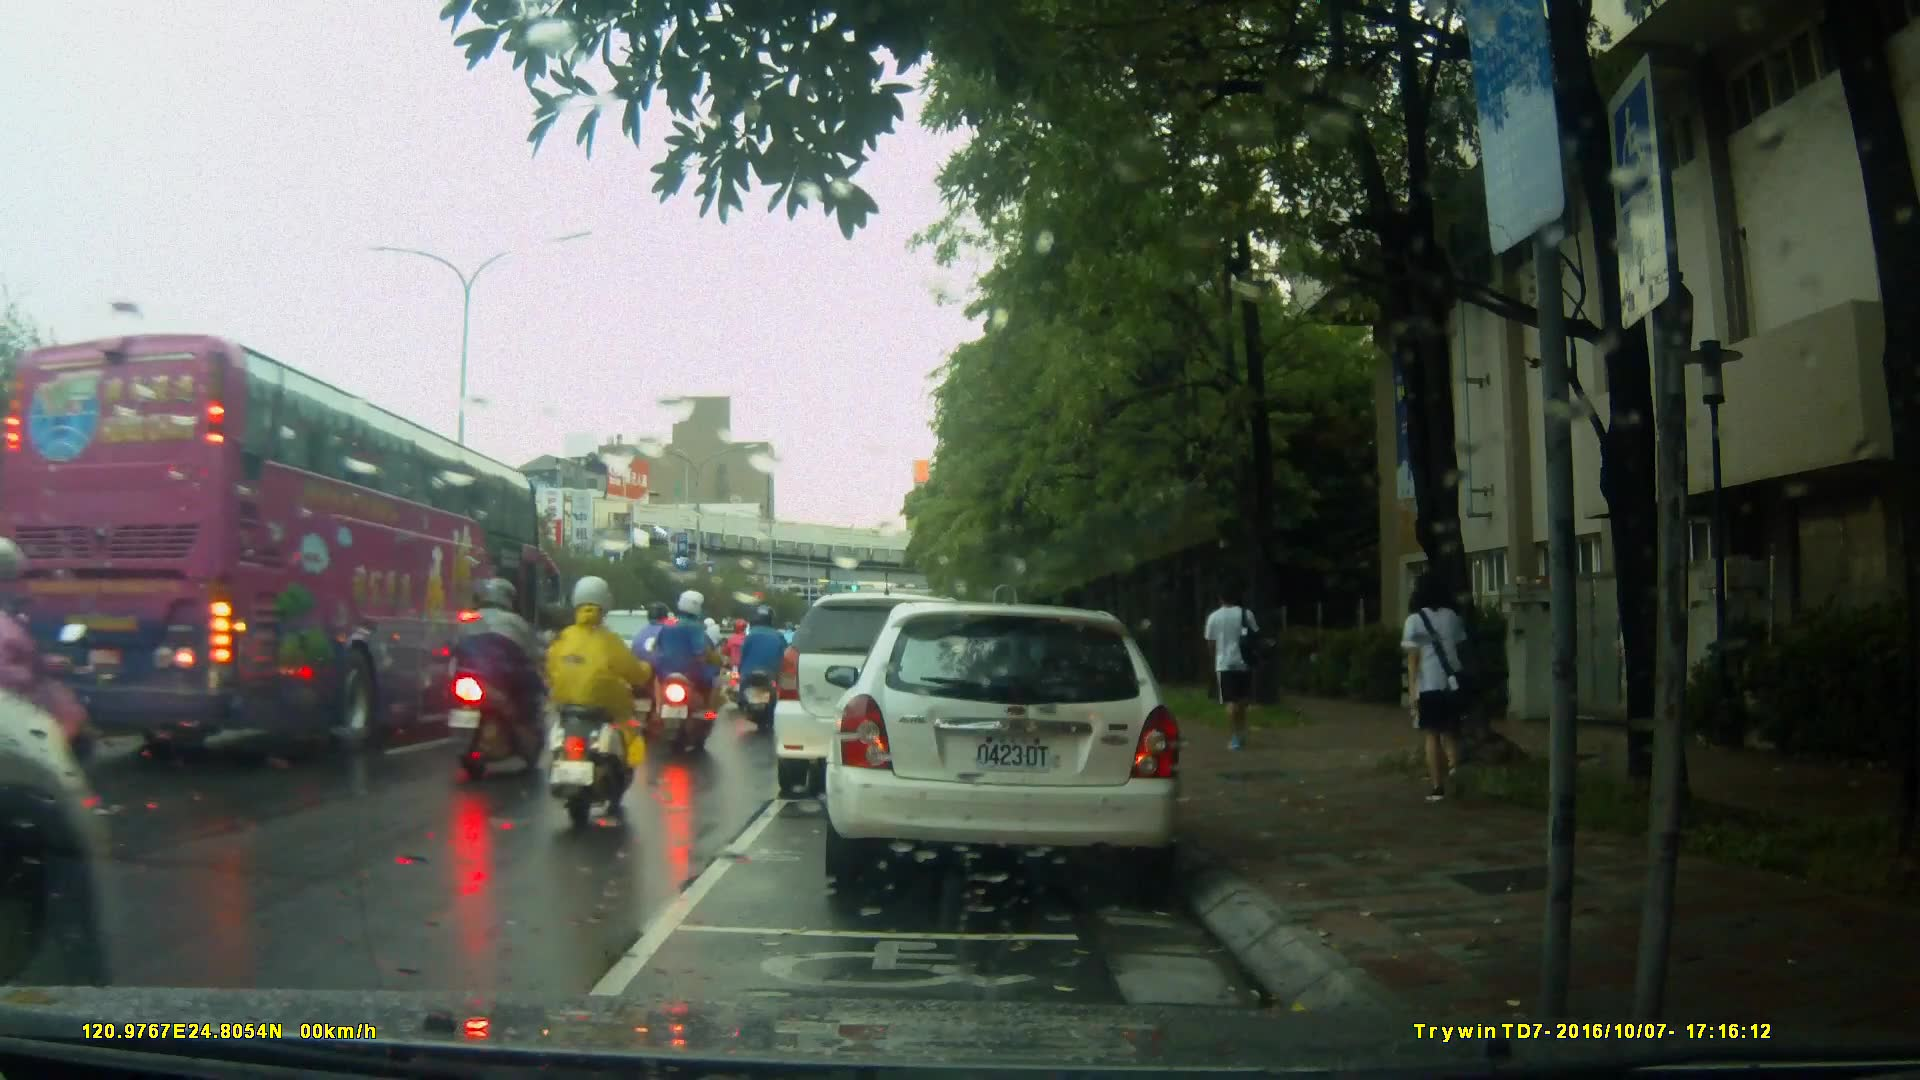pedestrian: (1385, 571, 1473, 812), (1191, 579, 1258, 756)
rider: (1, 537, 99, 859), (546, 574, 643, 832), (453, 572, 555, 783), (652, 585, 719, 775), (733, 604, 797, 741), (632, 598, 685, 735), (722, 616, 764, 702), (780, 623, 812, 688)
vehicle: (11, 332, 549, 752), (835, 594, 1194, 898), (776, 590, 1026, 784), (558, 607, 717, 738)
